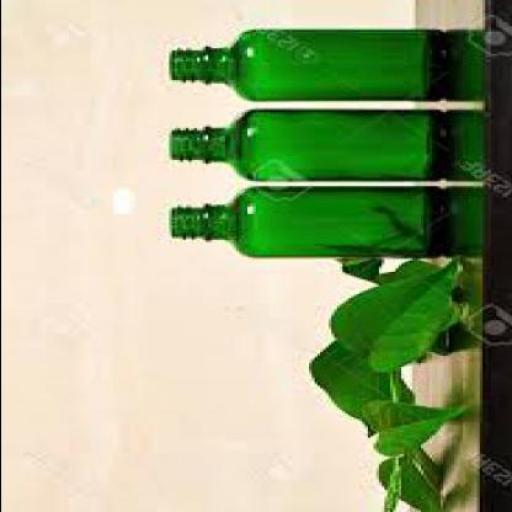glass: (165, 31, 445, 104), (165, 111, 448, 183), (168, 188, 442, 259)
